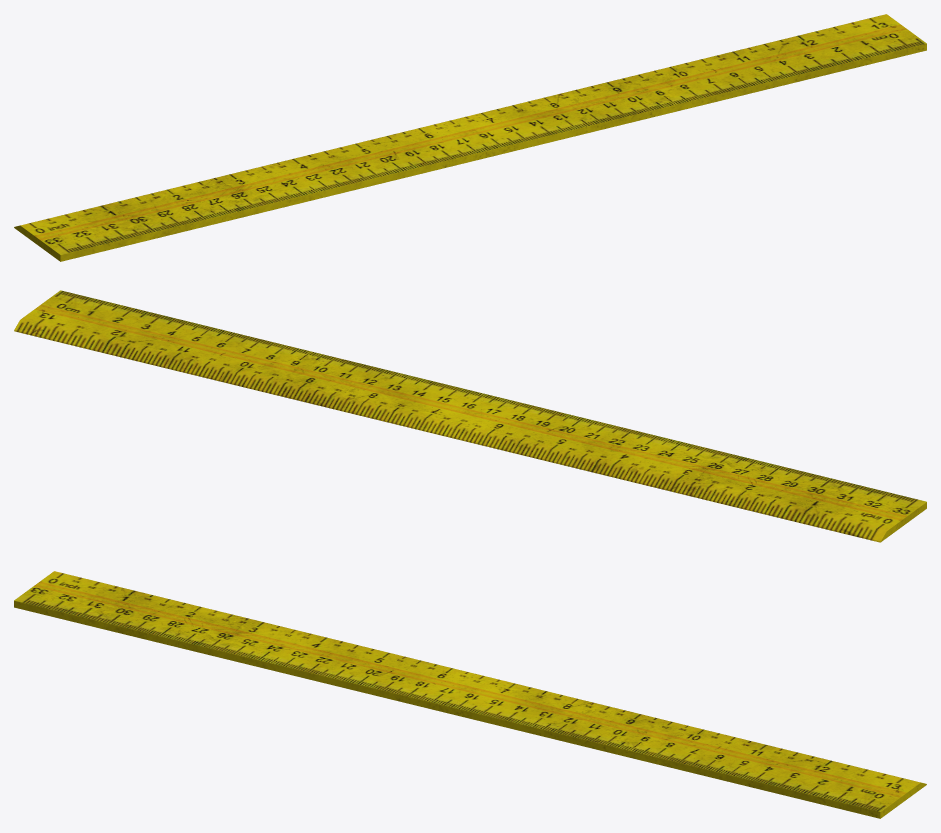
The model's file is ruler.glb.
3 views of the same model, one above another, from view 1: azimuth 30°, elevation 25°; view 2: azimuth 150°, elevation 25°; view 3: azimuth 330°, elevation 25° (orthographic).
Parts seen in each view (by area): view 1: Object_2; view 2: Object_2; view 3: Object_2.
Part boxes in pixels (left/top/right/bottom): Object_2: left=14, top=14, right=926, bottom=261; Object_2: left=14, top=290, right=926, bottom=542; Object_2: left=14, top=571, right=926, bottom=818.
Bounding box in the file's own units: 305 × 2.34 × 28.37.
1 material, 1 textured.
